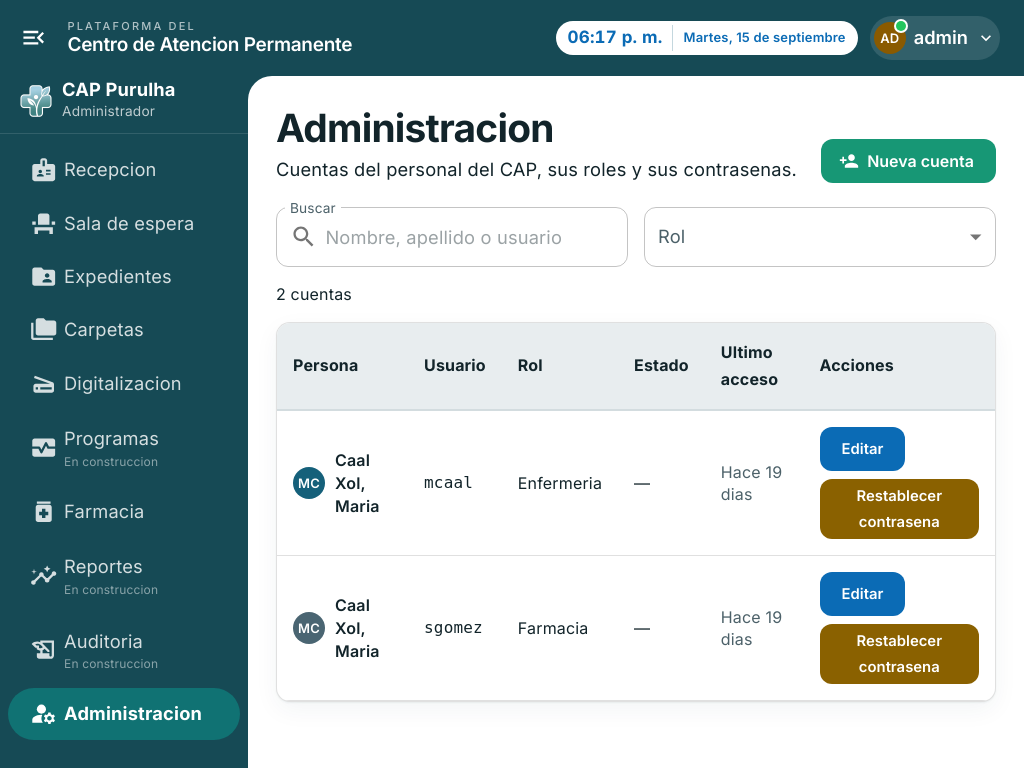
lista de cuentas › filtra por rol
The image size is (1024, 768).
Check: the text "mcaal" is shown, box left=408, top=410, right=502, bottom=556
Click the dropdown named "Rol" at (820, 237), box left=644, top=207, right=996, bottom=267
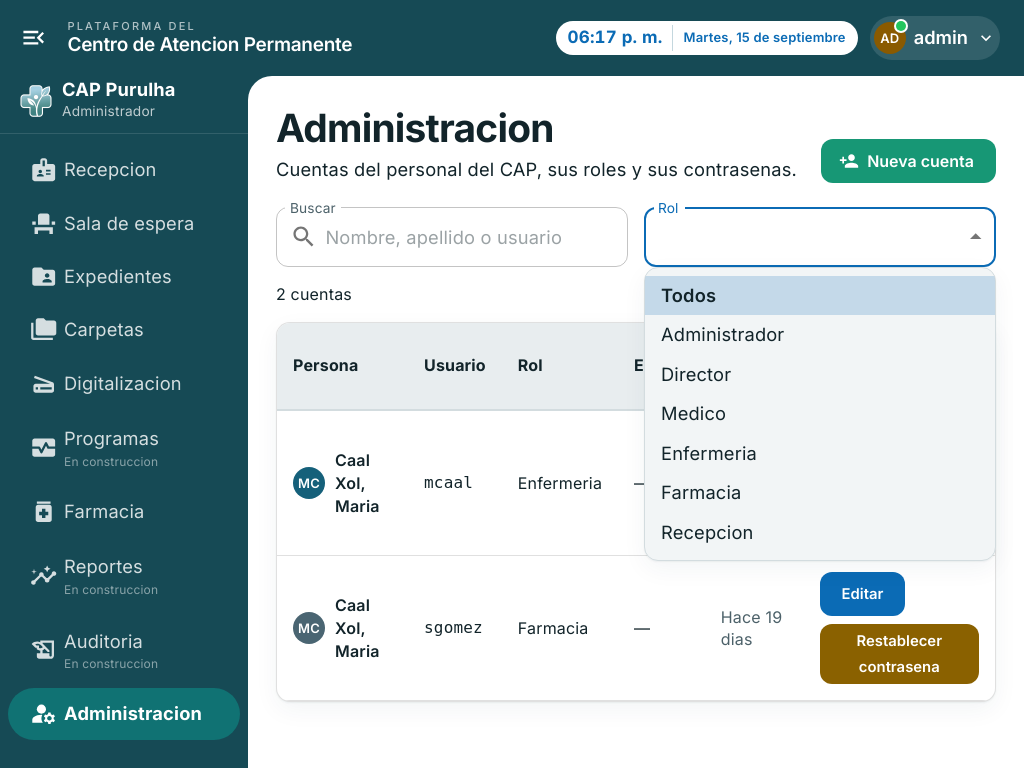
Click the option "Farmacia" at (701, 492), box left=661, top=481, right=742, bottom=503
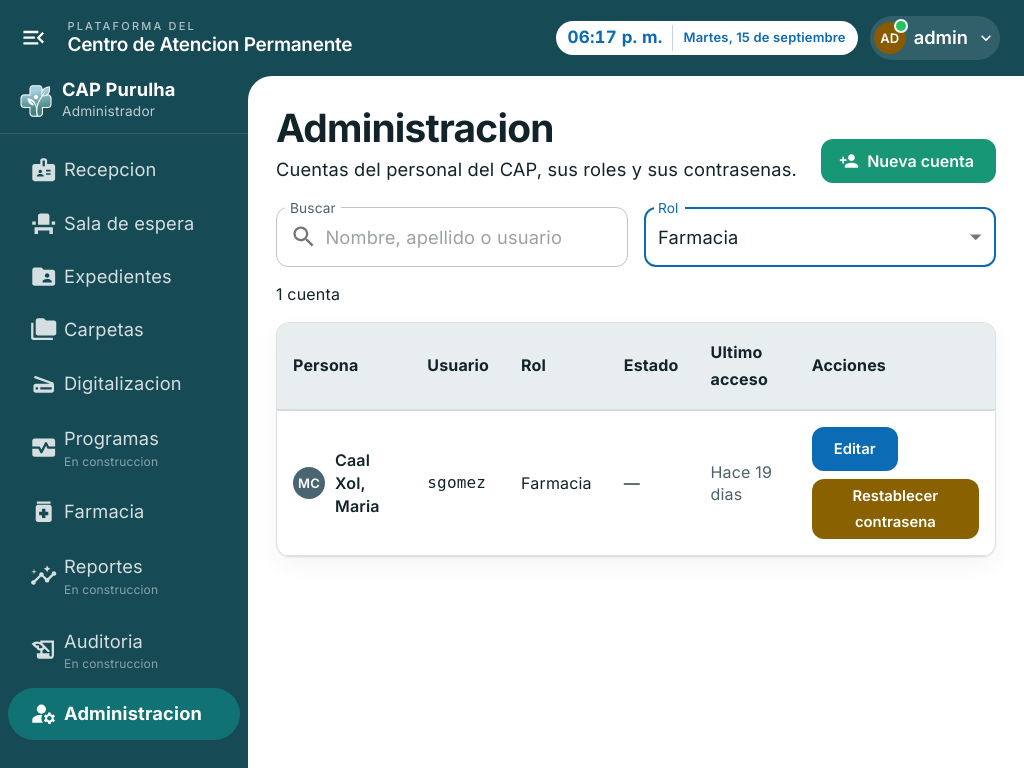
Check: the text "sgomez" is shown, box left=411, top=410, right=505, bottom=556
Check: the text "mcaal" is gone
